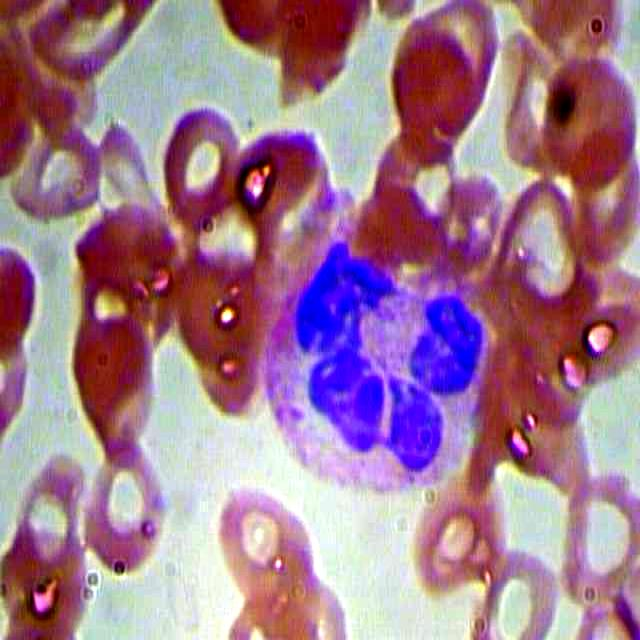RBC: (482, 175, 594, 306), (78, 448, 184, 580), (63, 316, 169, 448), (214, 482, 320, 614), (534, 52, 639, 185), (69, 192, 184, 313), (229, 121, 343, 232), (260, 1, 374, 111), (171, 233, 264, 367), (547, 260, 640, 393), (388, 15, 481, 148), (155, 99, 247, 232), (1, 444, 87, 583), (414, 469, 506, 594), (555, 474, 640, 606), (368, 118, 464, 234), (11, 112, 104, 216), (4, 541, 95, 640), (469, 549, 567, 640)
WBC: (260, 236, 491, 501)
